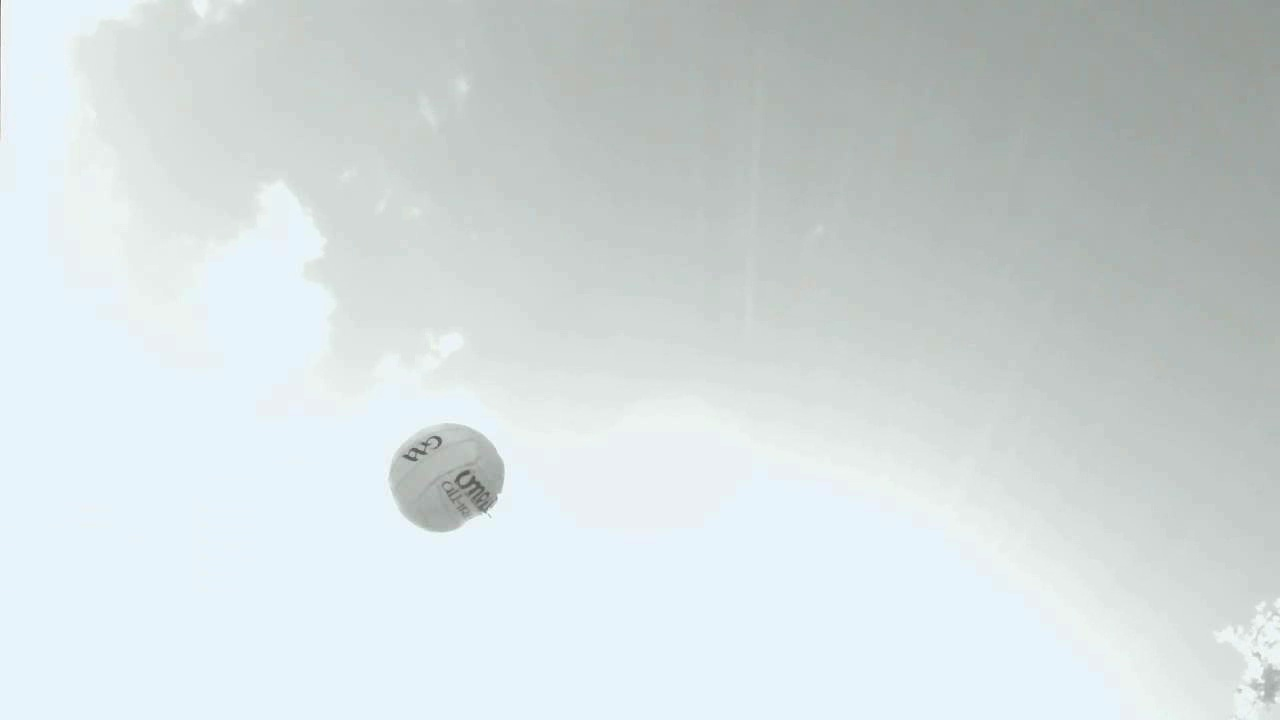Football-Spotter: (391, 423, 503, 531)
